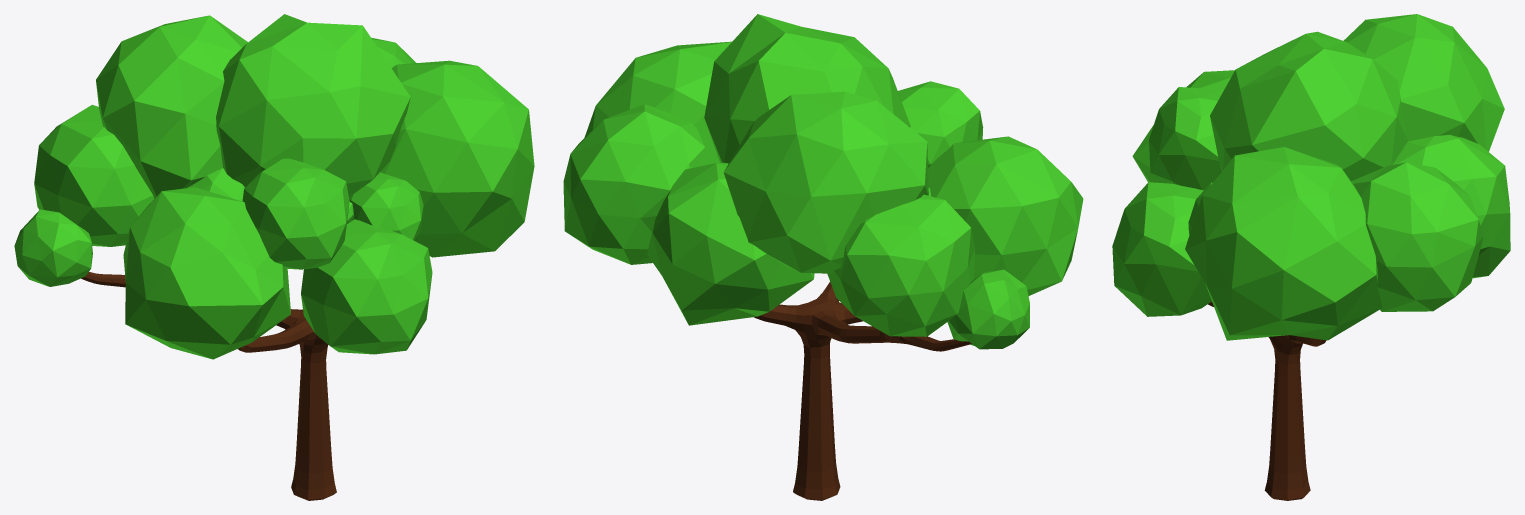
The model's file is LowPolyTree.fbx.
3 renders of one model, left to right at view 1: azimuth 30°, elevation 25°; view 2: azimuth 150°, elevation 25°; view 3: azimuth 270°, elevation 25°, orthographic. The views are drawn at different scales.
Visible parts, largest first — view 1: Icosphere.002; view 2: Icosphere.002; view 3: Icosphere.002.
Part boxes in pixels (bbox=[...]): Icosphere.002: bbox=[14, 14, 534, 500]; Icosphere.002: bbox=[563, 14, 1083, 500]; Icosphere.002: bbox=[1112, 14, 1510, 500].
Bounding box in the file's own units: 922 × 881 × 705.
